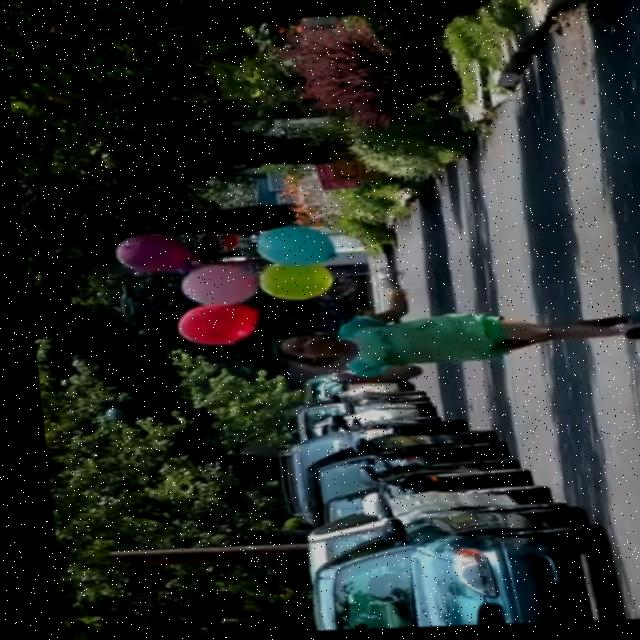balloon: (165, 307, 258, 343), (108, 232, 189, 272), (251, 226, 328, 267), (177, 264, 250, 307), (254, 266, 328, 298)
